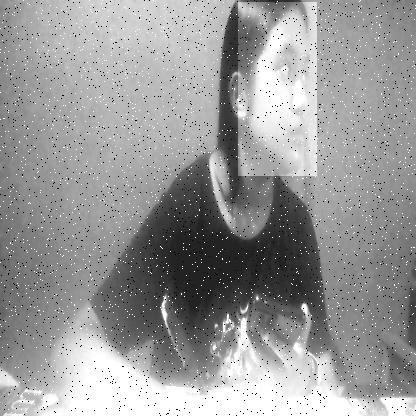Distracted: (238, 2, 317, 176)
